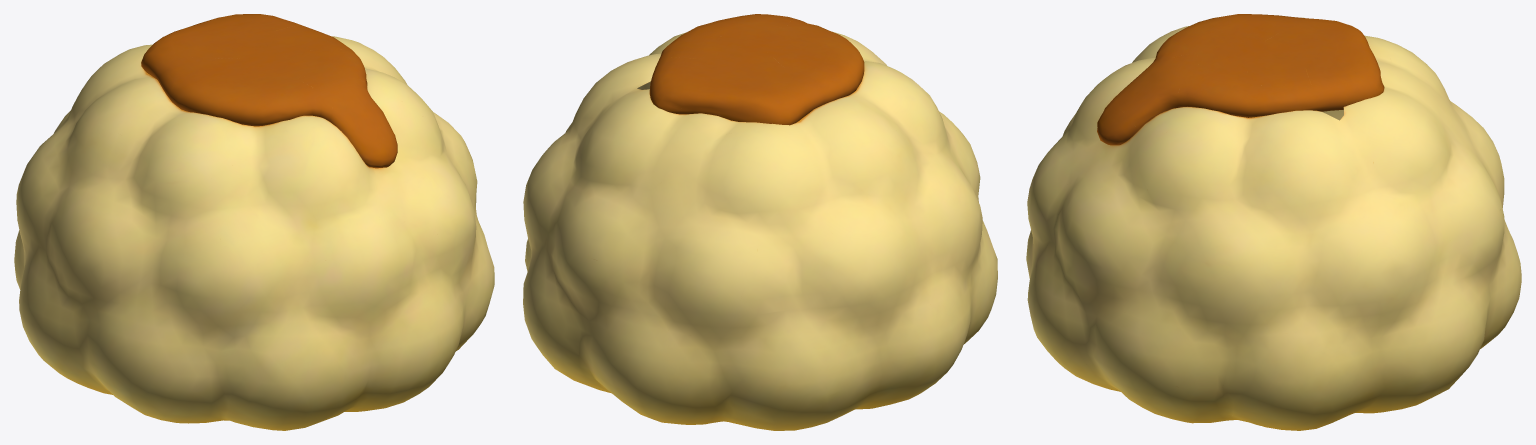
File: shot_potato.glb
The picture shows the model from 3 angles, left to right: view 1: azimuth 30°, elevation 25°; view 2: azimuth 150°, elevation 25°; view 3: azimuth 270°, elevation 25°; orthographic projection. The views are drawn at different scales.
Parts seen in each view (by area): view 1: geometry_0; view 2: geometry_0; view 3: geometry_0.
Boxes of the visible parts, x1,y1,x2,y2 form: geometry_0: (14, 14, 494, 430); geometry_0: (523, 14, 997, 430); geometry_0: (1026, 14, 1521, 430).
Bounding box in the file's own units: 0.9487 × 0.6743 × 0.9536.
Materials: 1 (1 with a texture image).
